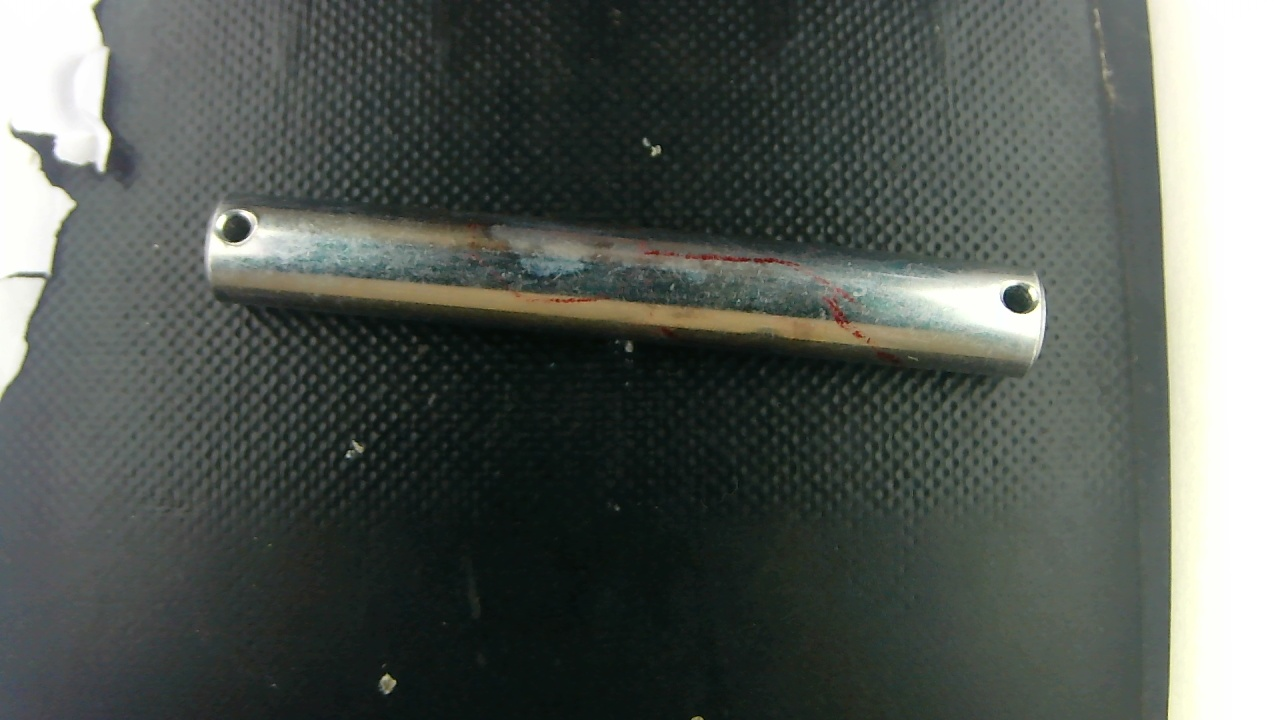black patch_pin: (485, 218, 857, 358)
